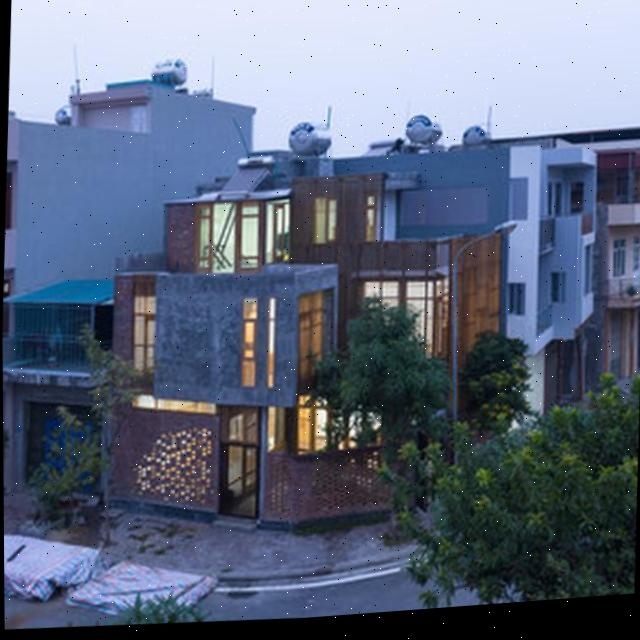building: (1, 48, 640, 551)
